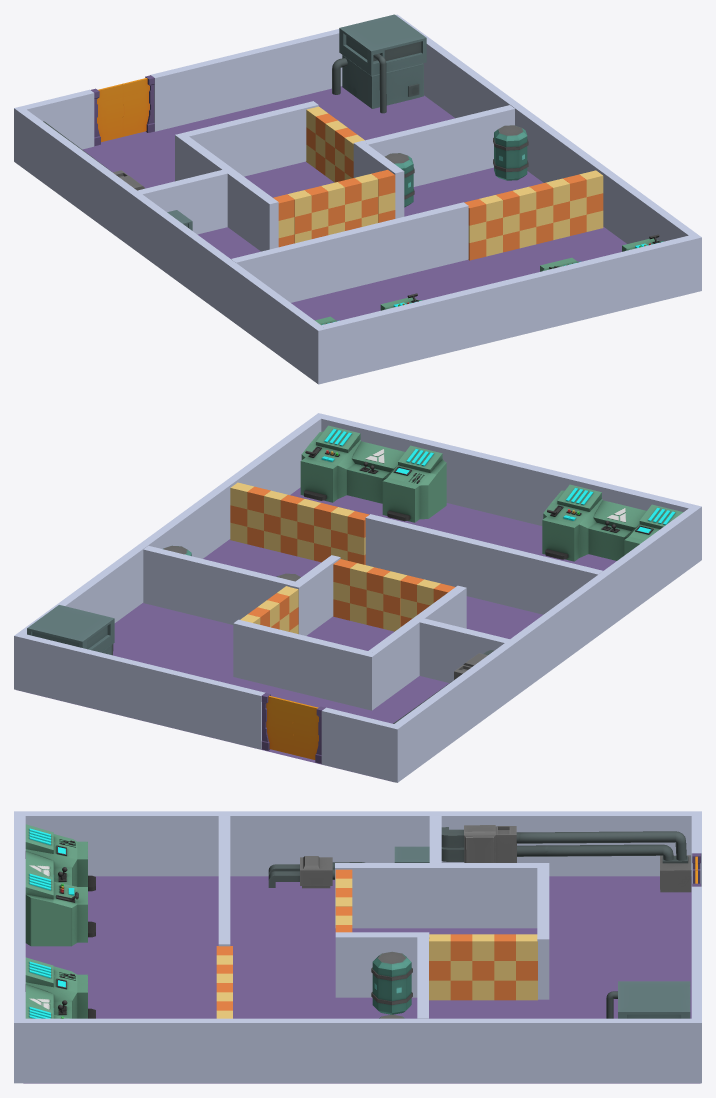
File: maps_09.fbx
3 renders of one model, top to bottom at view 1: azimuth 30°, elevation 25°; view 2: azimuth 150°, elevation 25°; view 3: azimuth 270°, elevation 25°, orthographic. The views are drawn at different scales.
Parts seen in each view (by area): view 1: polySurface144, polySurface195, polySurface196, polySurface199, polySurface191, polySurface193, generatorStation_05_geo, polySurface192, polySurface198, polySurface259, polySurface260, polySurface197 (+6 smaller); view 2: polySurface144, polySurface196, polySurface193, polySurface199, polySurface191, polySurface195, table_01_geo1, polySurface198, polySurface192, table_01_geo, polySurface197, polySurface259 (+6 smaller); view 3: polySurface144, polySurface191, polySurface196, polySurface259, generatorStation_03_geo, table_01_geo, polySurface261, table_01_geo1, generatorStation_05_geo, polySurface195, generatorStation_04_geo3, tank_01_geo1 (+21 smaller).
Boxes of the visible parts, bbox=[...] form: polySurface144: bbox=[82, 86, 626, 320]; polySurface195: bbox=[321, 235, 694, 382]; polySurface196: bbox=[14, 106, 326, 384]; polySurface199: bbox=[231, 202, 468, 302]; polySurface191: bbox=[396, 14, 701, 292]; polySurface193: bbox=[150, 29, 342, 131]; generatorStation_05_geo: bbox=[332, 14, 426, 113]; polySurface192: bbox=[363, 105, 514, 186]; polySurface198: bbox=[175, 101, 318, 181]; polySurface259: bbox=[180, 136, 278, 251]; polySurface260: bbox=[135, 170, 227, 234]; polySurface197: bbox=[22, 89, 94, 149]; polySurface144: bbox=[16, 487, 616, 782]; polySurface196: bbox=[389, 504, 701, 782]; polySurface193: bbox=[22, 634, 265, 749]; polySurface199: bbox=[365, 514, 602, 614]; polySurface191: bbox=[14, 413, 325, 691]; polySurface195: bbox=[321, 415, 693, 525]; table_01_geo1: bbox=[300, 425, 446, 522]; polySurface198: bbox=[233, 619, 376, 710]; polySurface192: bbox=[143, 545, 294, 624]; table_01_geo: bbox=[542, 484, 683, 561]; polySurface197: bbox=[321, 707, 393, 780]; polySurface259: bbox=[368, 585, 466, 706]; polySurface144: bbox=[23, 876, 700, 1083]; polySurface191: bbox=[14, 1018, 701, 1083]; polySurface196: bbox=[14, 811, 701, 876]; polySurface259: bbox=[335, 863, 537, 928]; generatorStation_03_geo: bbox=[441, 825, 691, 892]; table_01_geo: bbox=[25, 824, 95, 946]; polySurface261: bbox=[335, 932, 429, 997]; table_01_geo1: bbox=[25, 957, 95, 1018]; generatorStation_05_geo: bbox=[606, 981, 690, 1018]; polySurface195: bbox=[14, 816, 25, 1018]; generatorStation_04_geo3: bbox=[268, 846, 429, 888]; tank_01_geo1: bbox=[371, 951, 412, 1014].
Size of the model in its own units: 66.51 by 10.22 by 91.46.
Materials: 6 (6 with a texture image).
